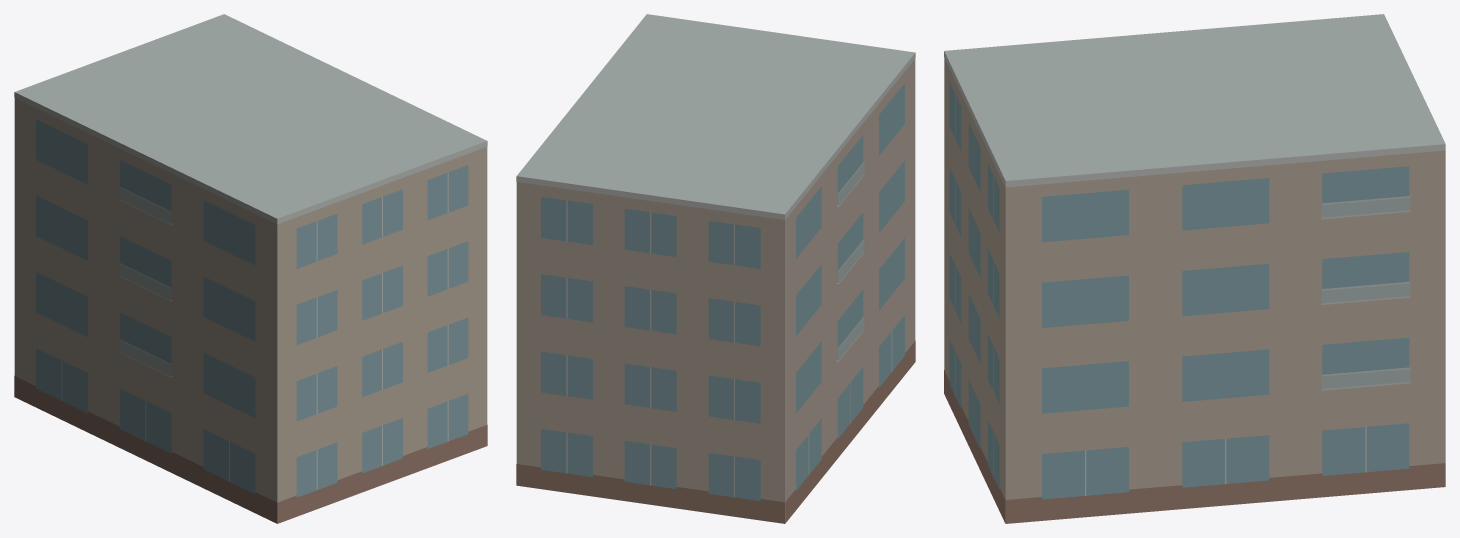
The model's file is survey-upis-32704622.glb.
3 views of the same model, side by side, from view 1: azimuth 30°, elevation 25°; view 2: azimuth 150°, elevation 25°; view 3: azimuth 270°, elevation 25° (orthographic). The views are drawn at different scales.
Visible parts, largest first — view 1: survey-upis-32704622.tmp; view 2: survey-upis-32704622.tmp; view 3: survey-upis-32704622.tmp.
Boxes of the visible parts, box(x1,y1,x2,y2) form: survey-upis-32704622.tmp: box(14, 14, 487, 523); survey-upis-32704622.tmp: box(516, 14, 915, 523); survey-upis-32704622.tmp: box(944, 14, 1445, 523).
Bounding box in the file's own units: 13.81 × 13.2 × 17.52.
